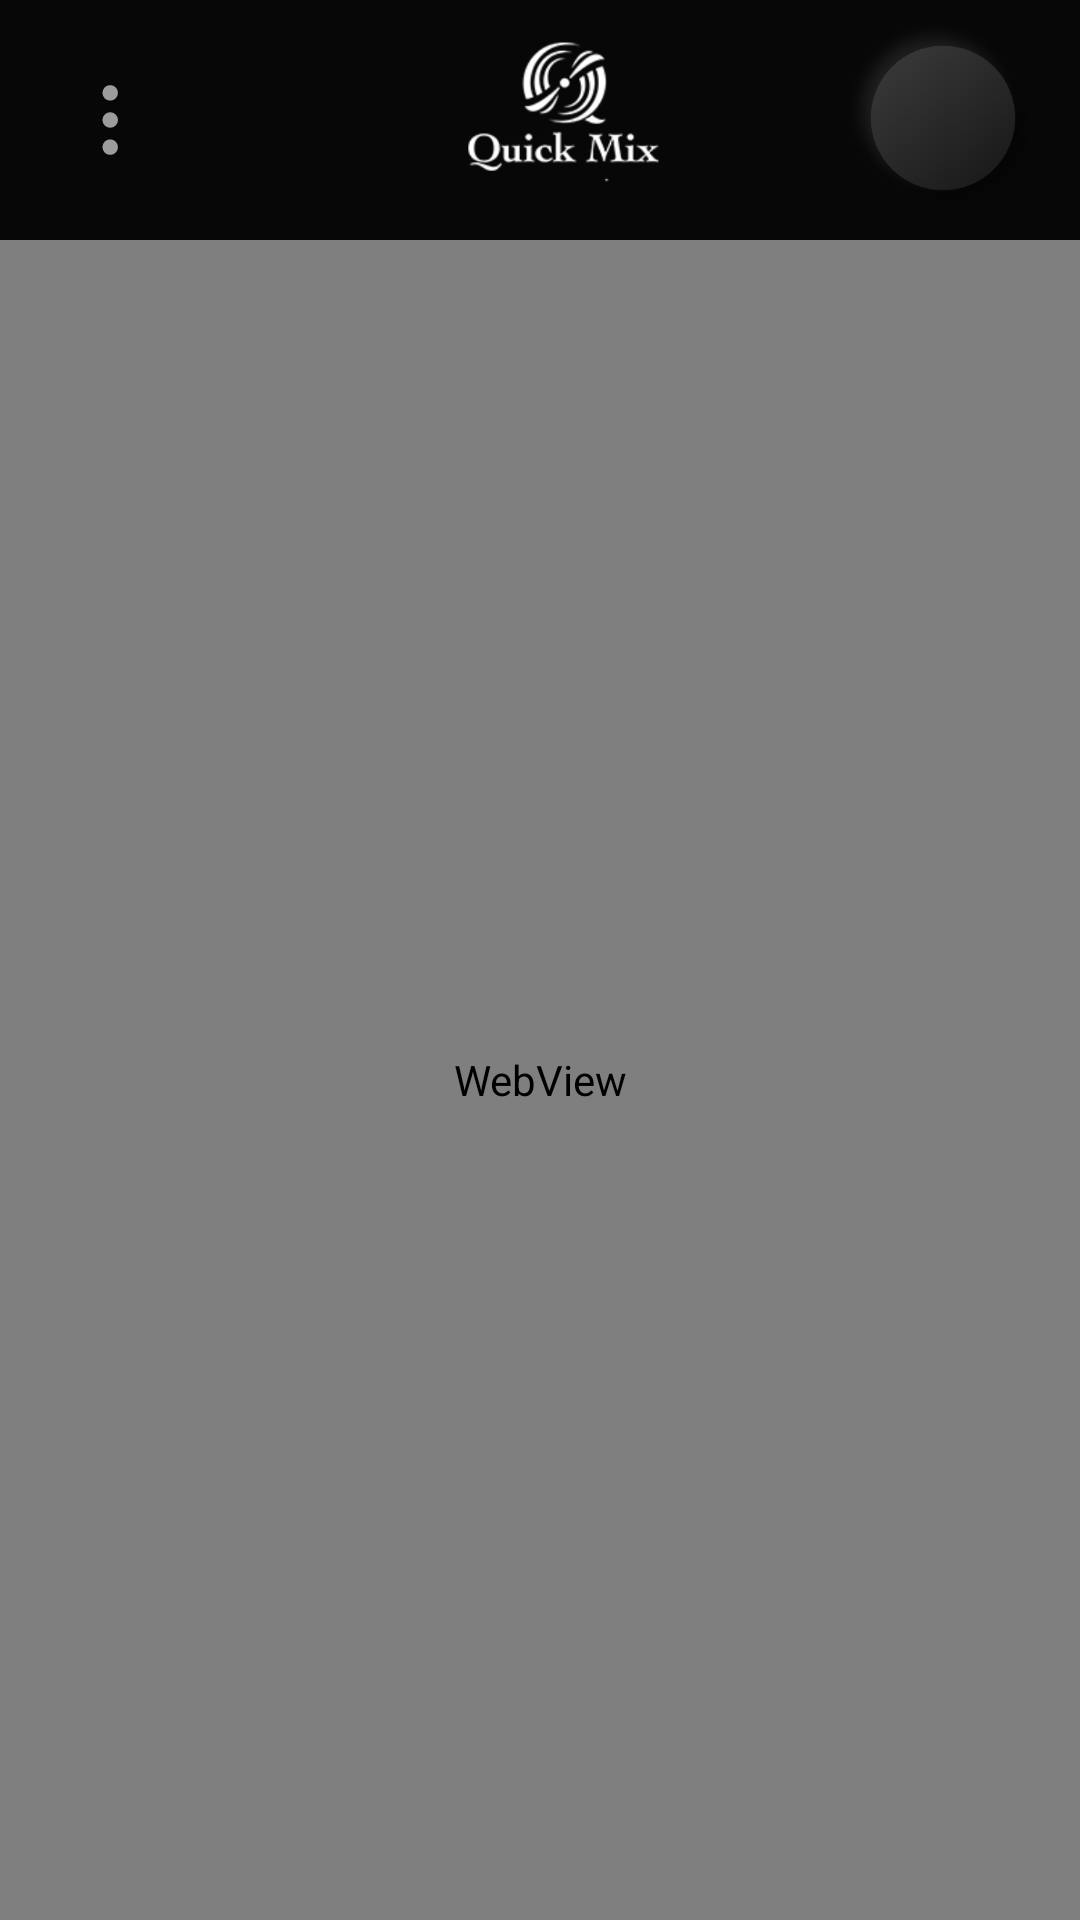

Locate icon controls on the screen. Image size 1080*1920, boxes as (x1, y1, x2, y2).
menu: (102, 85, 118, 155)
